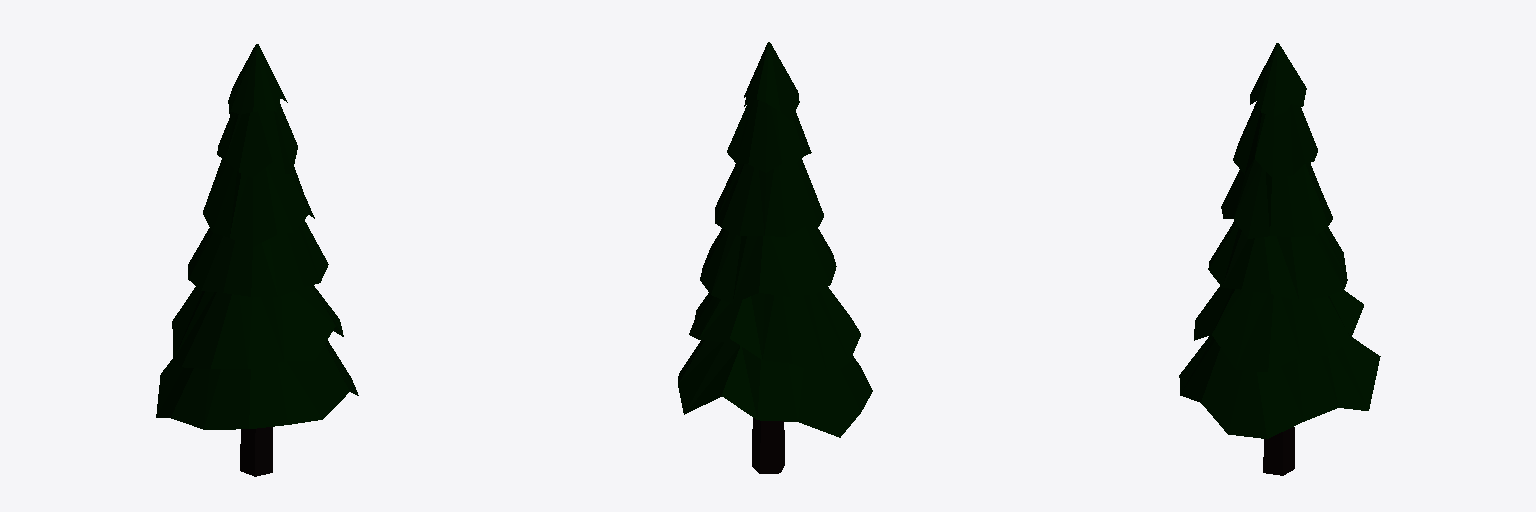
Rendered from tree_little.obj.
The picture shows the model from 3 angles: view 1: azimuth 30°, elevation 25°; view 2: azimuth 150°, elevation 25°; view 3: azimuth 270°, elevation 25°; orthographic projection.
Parts seen in each view (by area): view 1: tree1; view 2: tree1; view 3: tree1.
Part boxes in pixels (x1,y1,x2,y2): tree1: (156, 44, 358, 476); tree1: (678, 42, 872, 473); tree1: (1179, 43, 1380, 475).
Bounding box in the file's own units: 2.99 × 6.79 × 2.91.